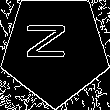N_E: (31, 29, 79, 69)
